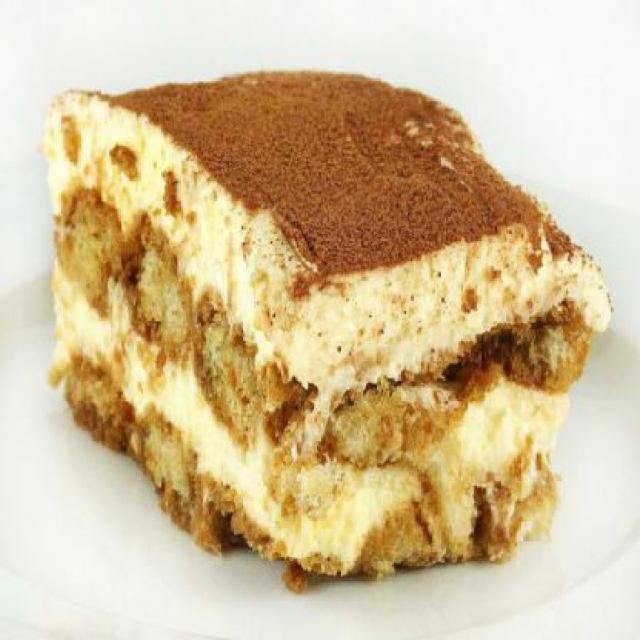Tiramisu: (51, 66, 600, 592)
